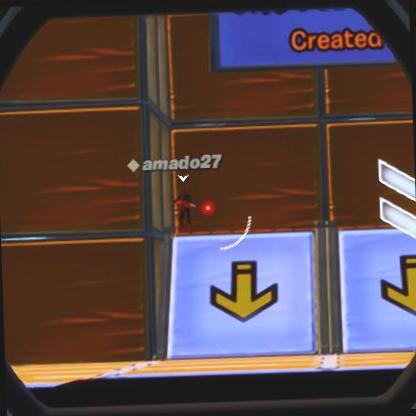person: (172, 186, 196, 236)
